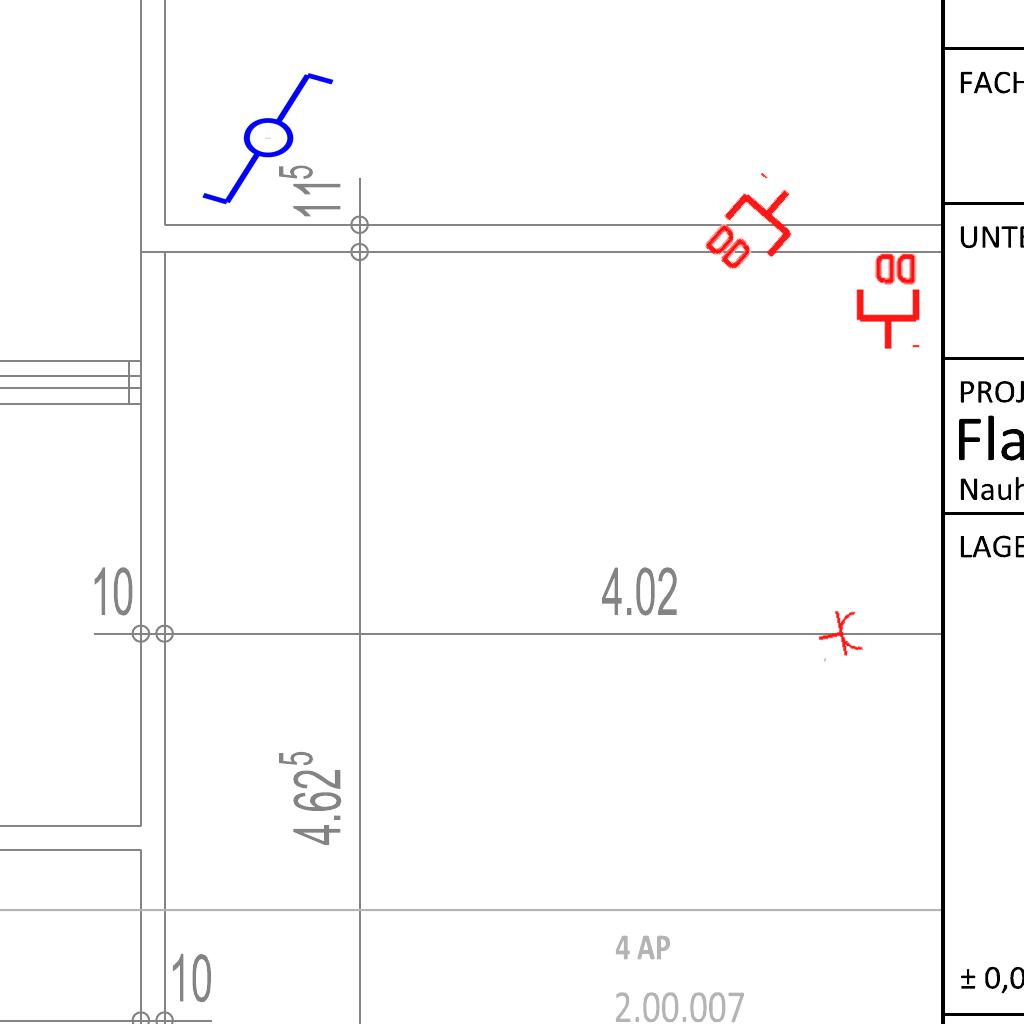Datenanschluss_zweifach: (696, 167, 817, 292), (852, 249, 921, 352)
Schukosteckdose_einfach: (813, 606, 866, 664)
Wechselschalter: (198, 68, 355, 212)
